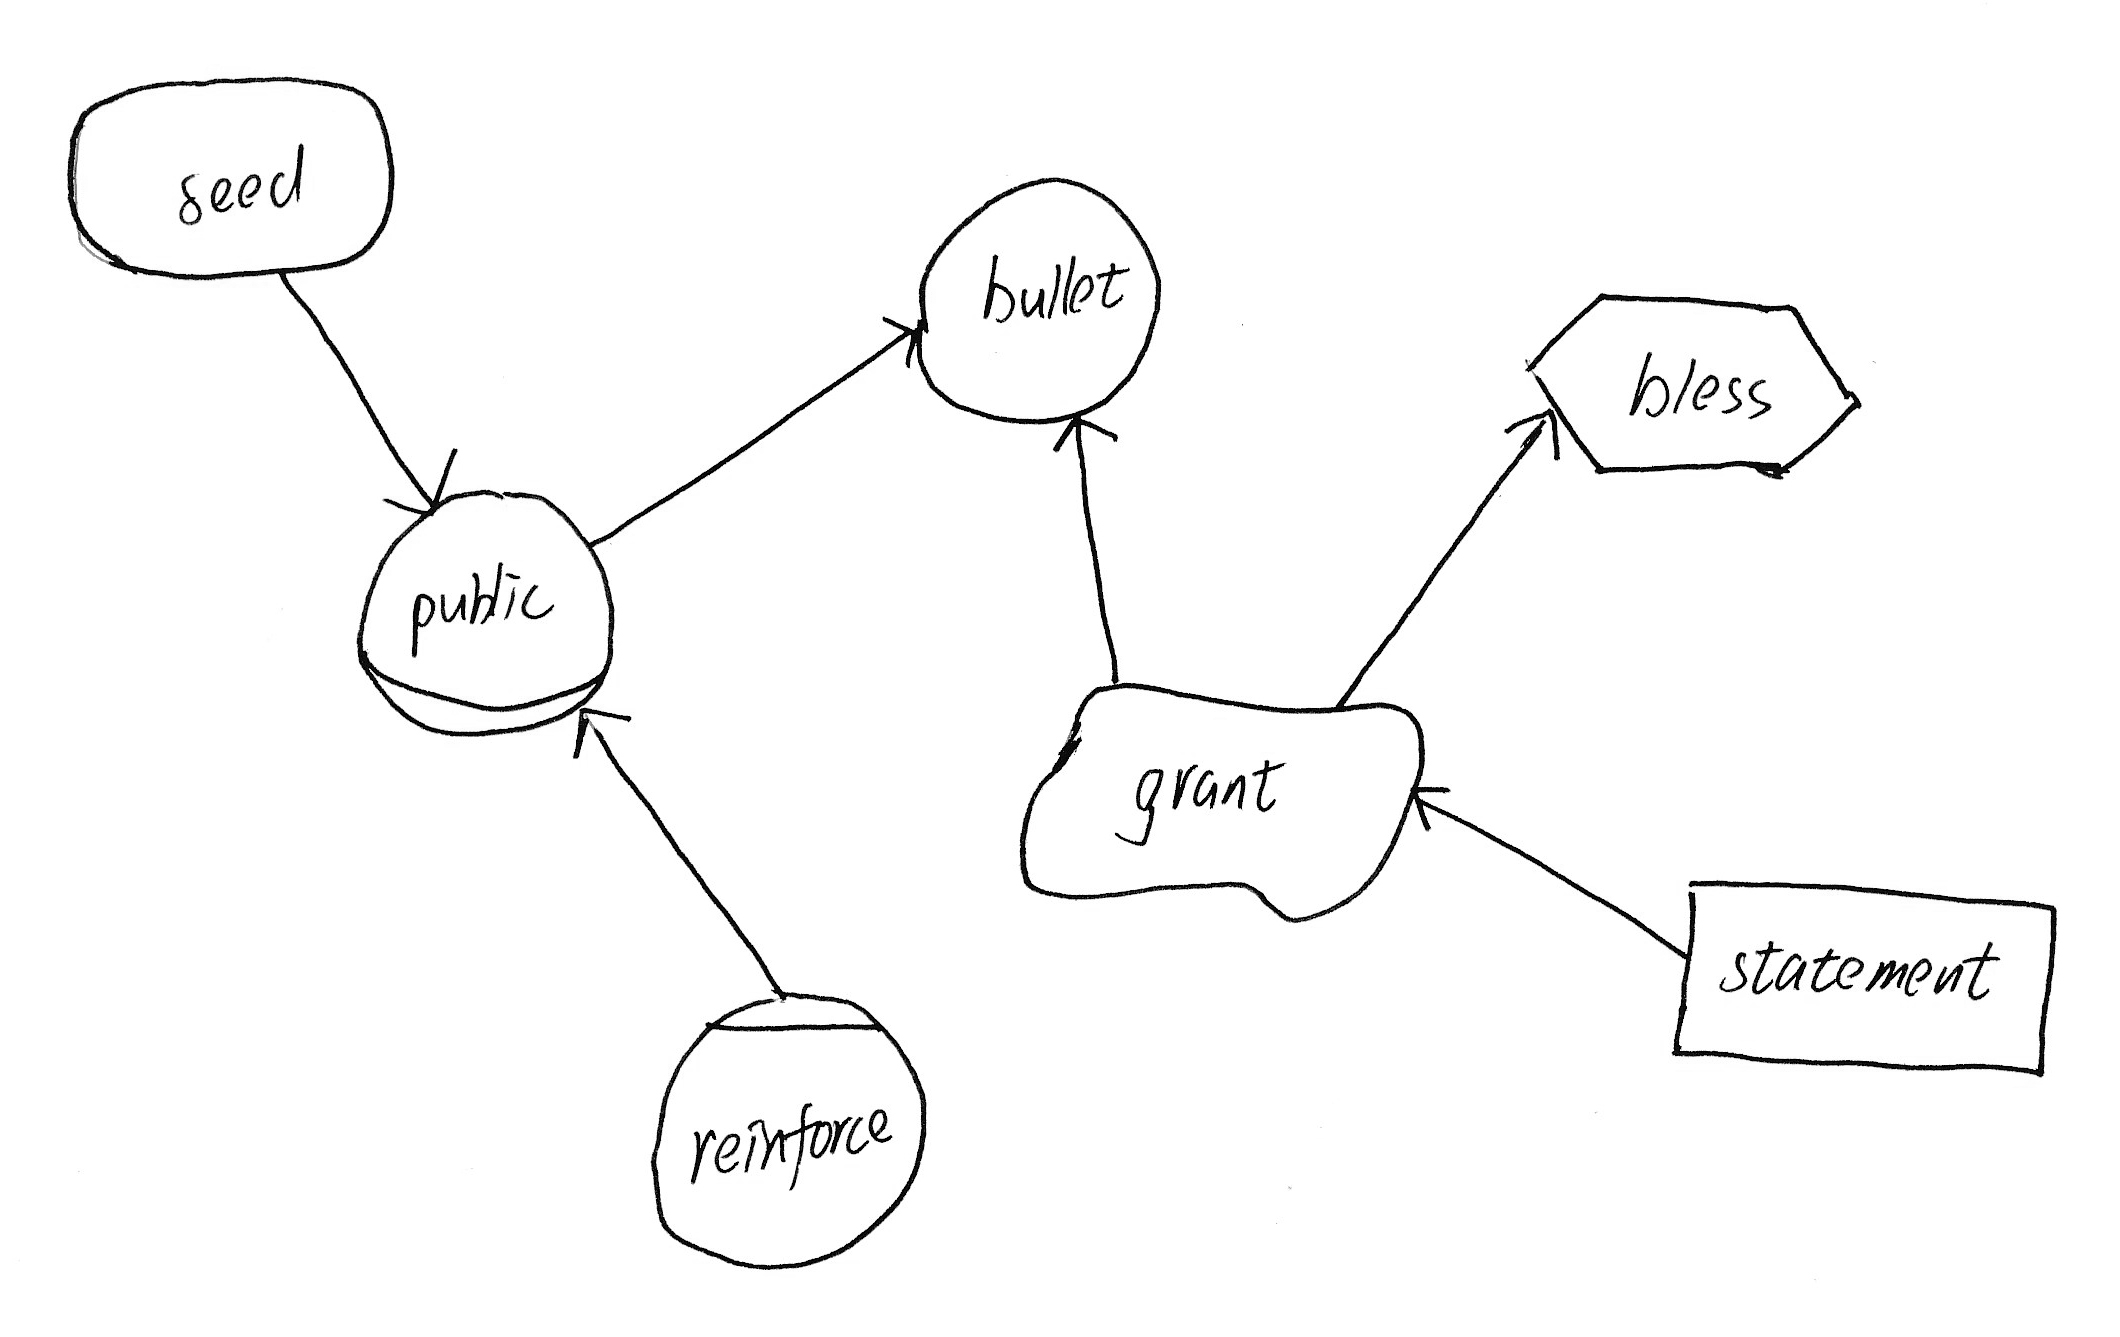actor: (896, 162, 1173, 436)
agent: (633, 977, 948, 1289)
arrow: (371, 444, 465, 524), (1493, 391, 1581, 474), (554, 692, 647, 770), (865, 300, 939, 379), (1045, 400, 1125, 467), (1399, 769, 1460, 841)
goal: (49, 59, 416, 297)
quality: (999, 664, 1449, 941)
resource: (1650, 861, 2075, 1097)
role: (339, 470, 628, 750)
task: (1513, 273, 1877, 494)
